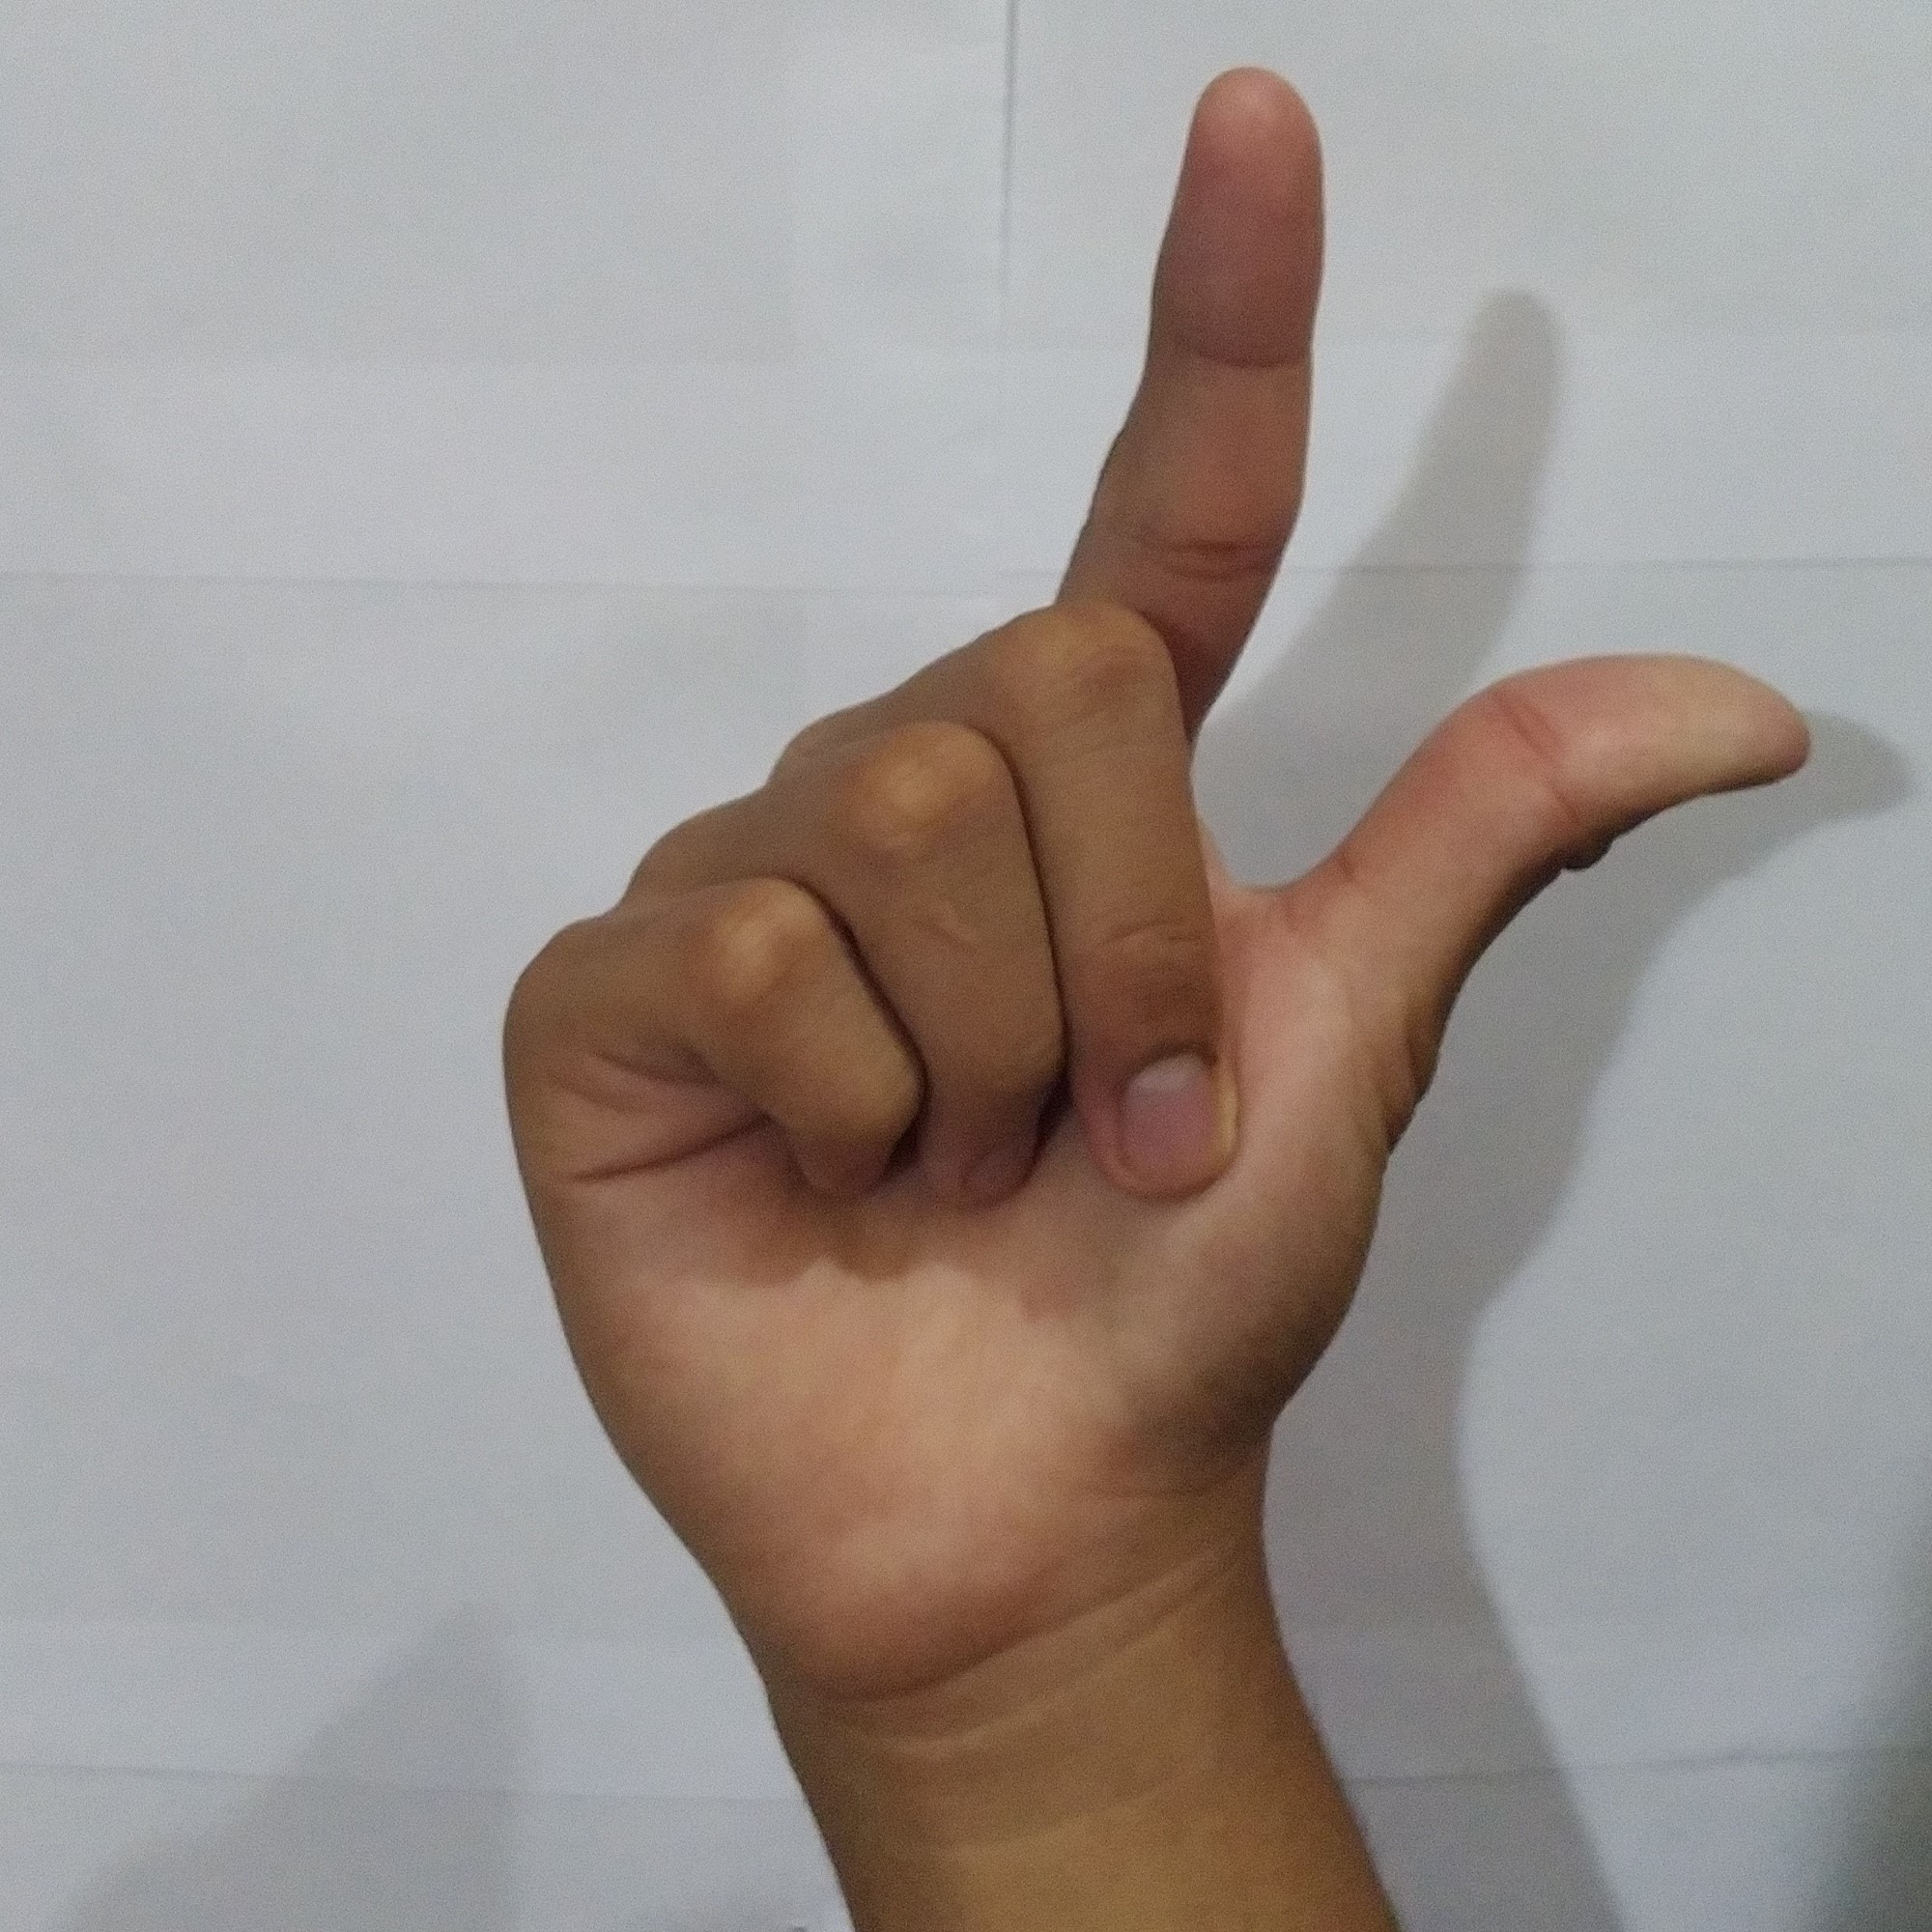L: (474, 41, 1835, 1562)
